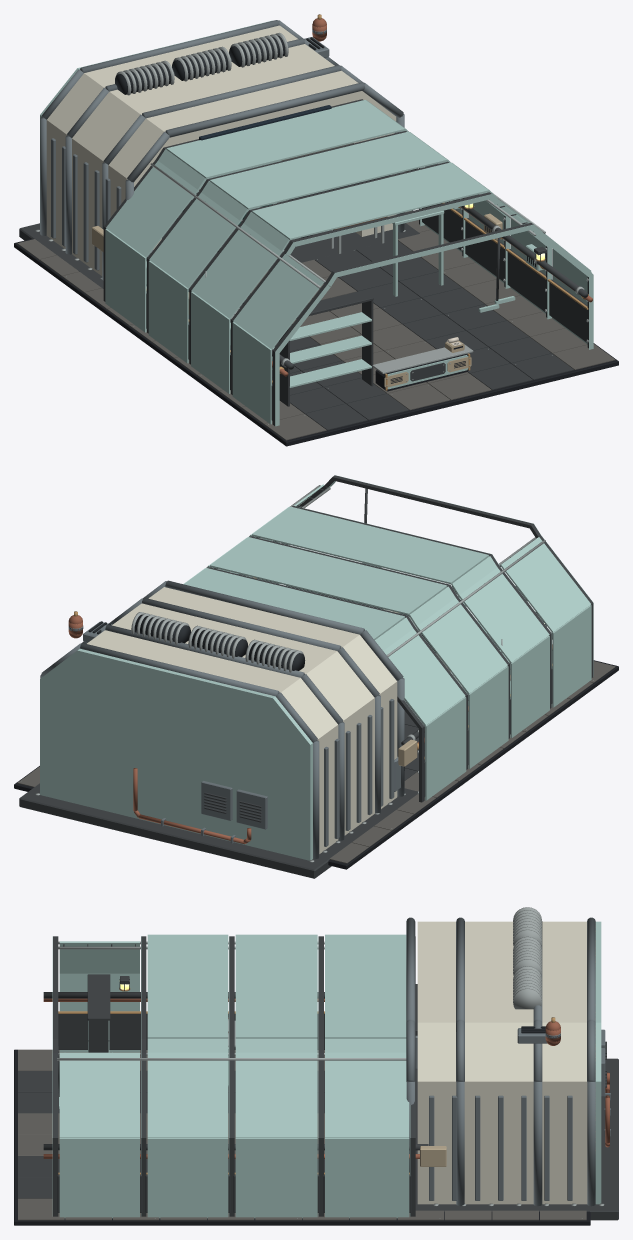
File: cryo-vault-rimeholm-depot.glb
3 renders of one model, top to bottom at view 1: azimuth 30°, elevation 25°; view 2: azimuth 150°, elevation 25°; view 3: azimuth 270°, elevation 25°, orthographic. The views are drawn at different scales.
Visible parts, largest first — view 1: cryo-vault-rimeholm-depot; view 2: cryo-vault-rimeholm-depot; view 3: cryo-vault-rimeholm-depot.
Boxes of the visible parts, <box> form: cryo-vault-rimeholm-depot: <box>14,14,618,446</box>; cryo-vault-rimeholm-depot: <box>14,475,618,878</box>; cryo-vault-rimeholm-depot: <box>14,907,618,1225</box>.
Bounding box in the file's own units: 17.08 × 8.89 × 25.4.
22 materials, 18 textured.
